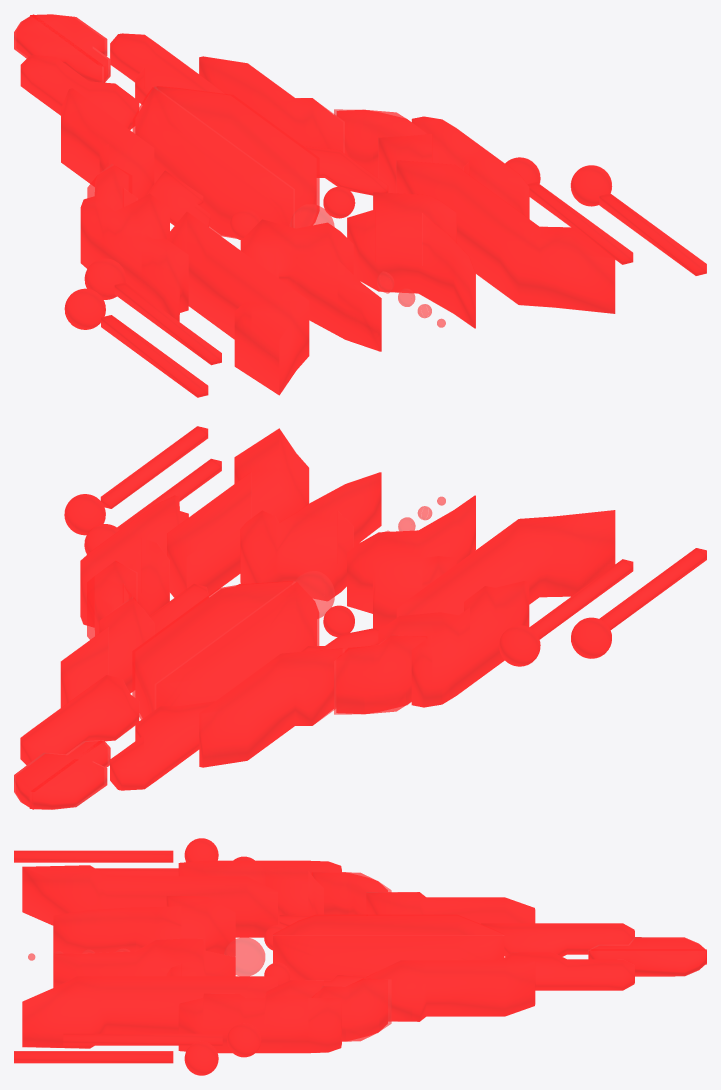
The model's file is MainShip.fbx.
3 renders of one model, top to bottom at view 1: azimuth 30°, elevation 25°; view 2: azimuth 150°, elevation 25°; view 3: azimuth 270°, elevation 25°, orthographic. The views are drawn at different scales.
Parts seen in each view (by area): view 1: Cube; view 2: Cube; view 3: Cube.
Part boxes in pixels (<box>): Cube: <box>14,14,706,397</box>; Cube: <box>14,426,706,809</box>; Cube: <box>14,838,706,1075</box>.
Bounding box in the file's own units: 6.47 × 0.6315 × 8.7.
